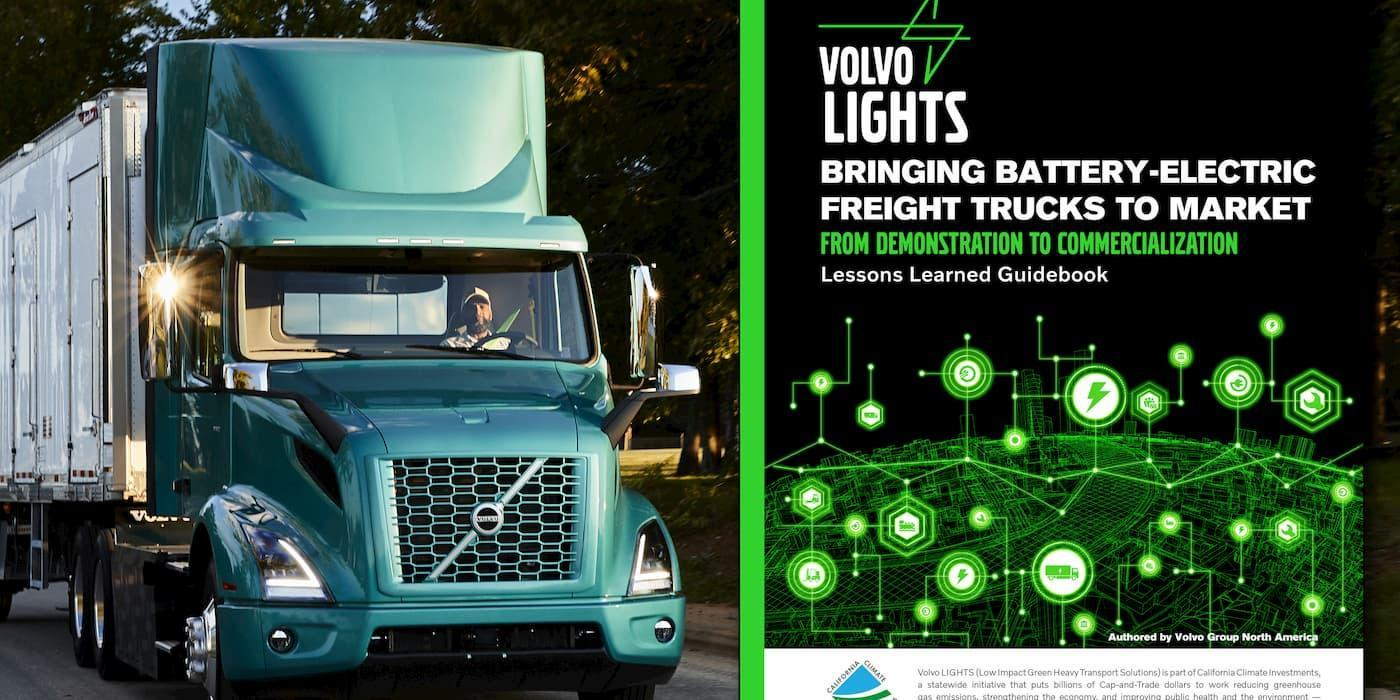truck: (1, 38, 698, 700)
